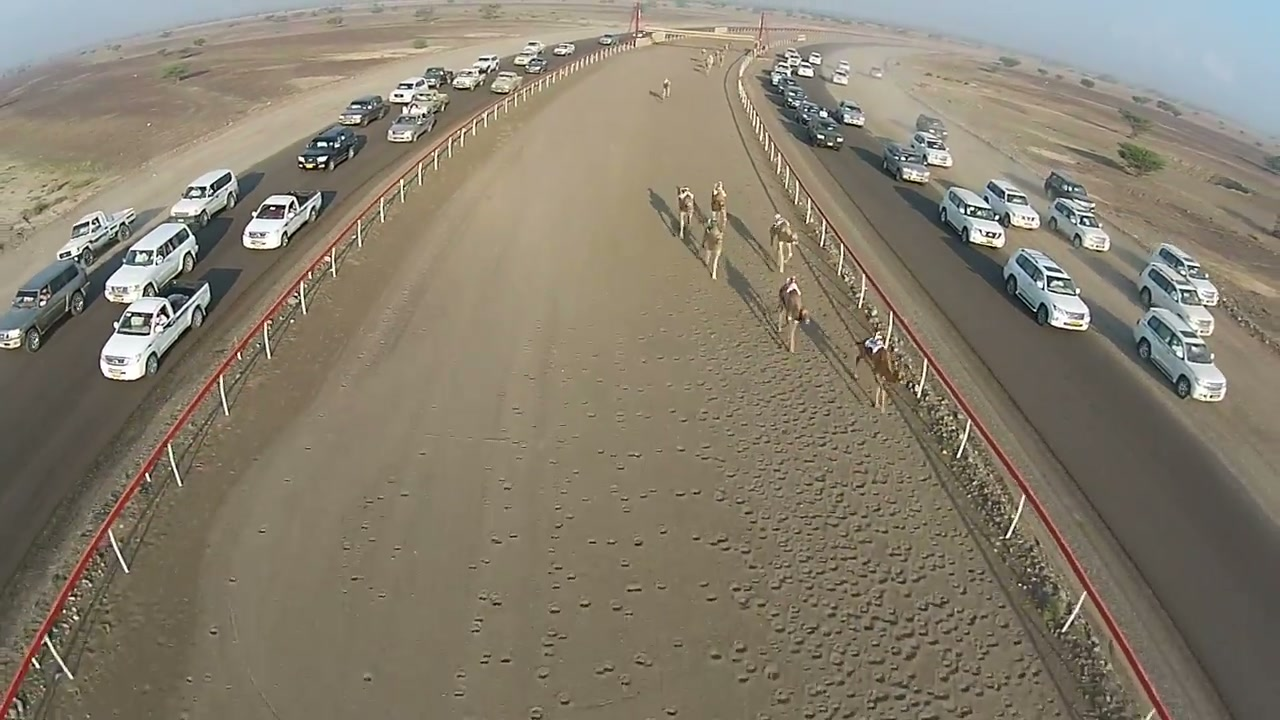animal_foot_print: (528, 313, 1059, 719)
